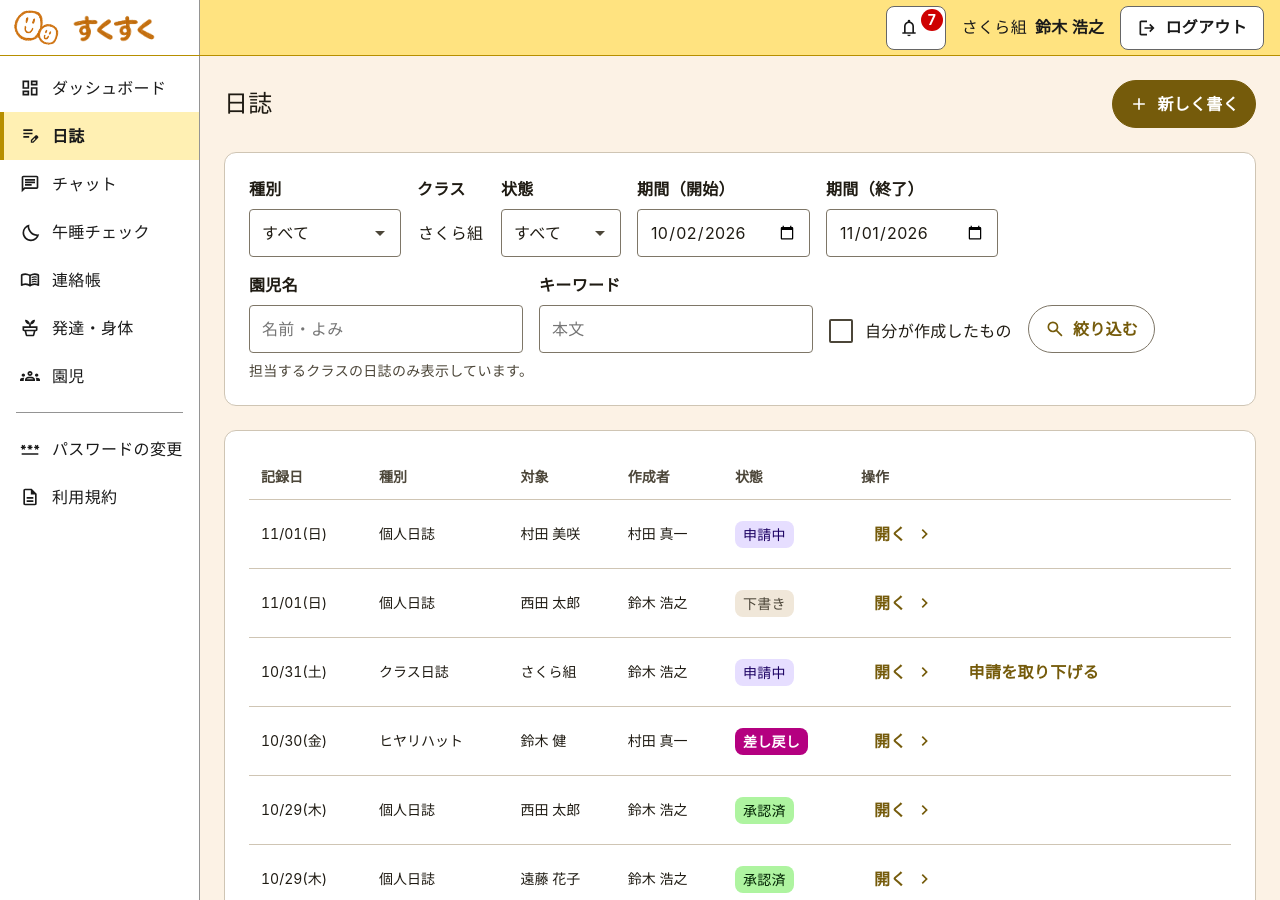
Test: 日誌一覧画面：申請の取り下げ（2-13 (2)） › 自分が申請した申請中の行にだけ「申請を取り下げる」を出し、確かめてから下書きに戻す
Expected: the link "開く" in the row of "村田 美咲" is shown, [874,524,935,544]
Click the button "申請を取り下げる". click: (1034, 672)
box: [956,650,1112,694]
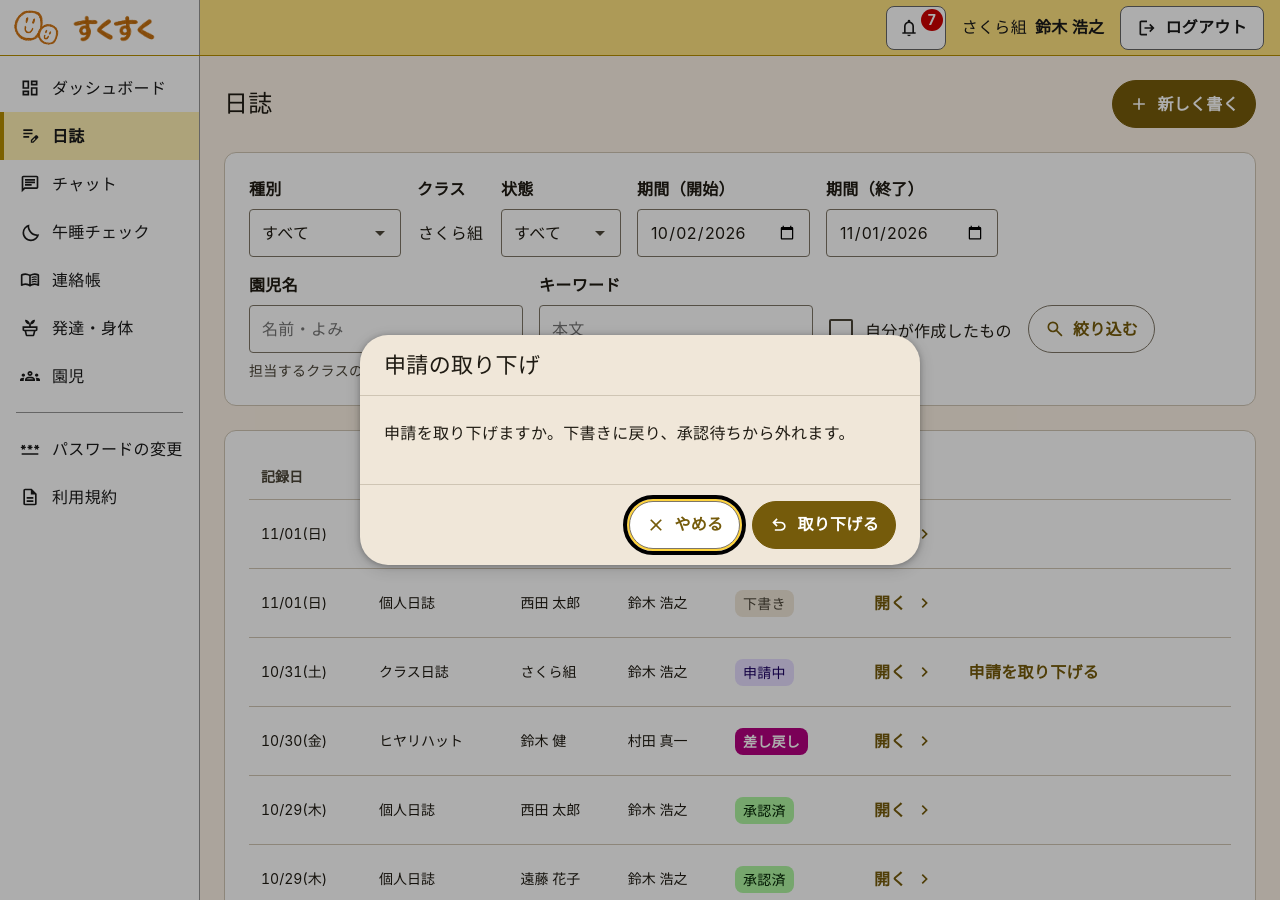
Result: the dialog shows "申請を取り下げますか。下書きに戻り、承認待ちから外れます。" at [384,423,855,443]
Click the button "取り下げる". click: (824, 525)
box: [752,501,896,549]
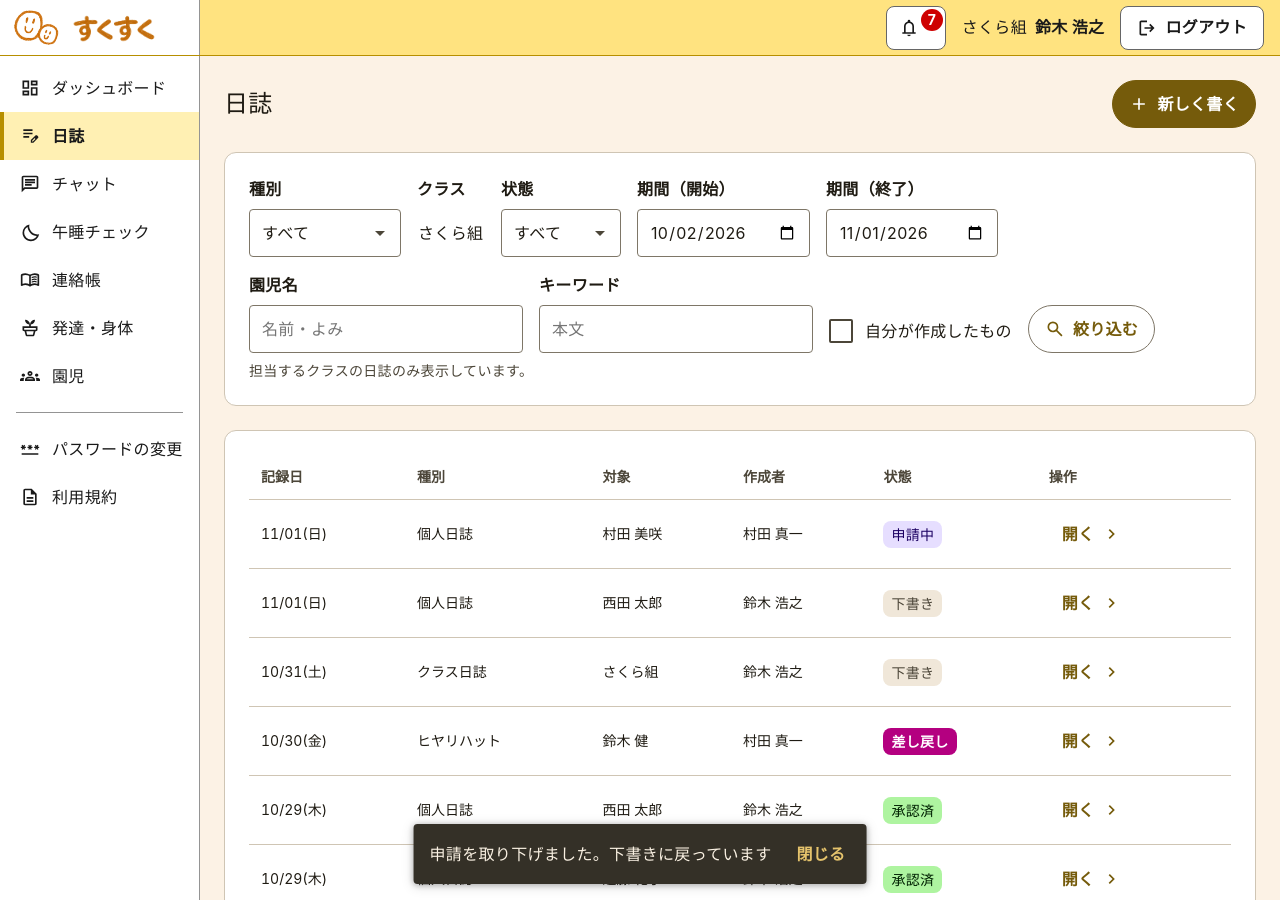
Result: the text "申請を取り下げました。下書きに戻っています" is shown at [430,842,772,866]
Result: the button "申請を取り下げる" is gone
